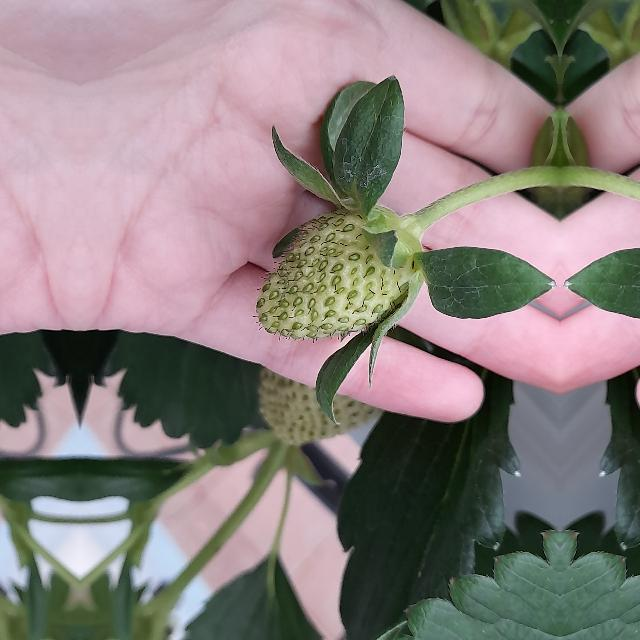Health_25: (255, 208, 417, 339)
